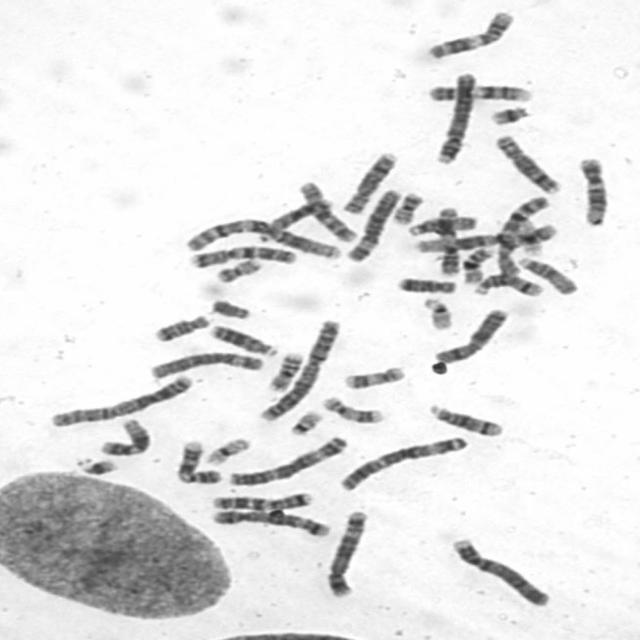A1: (179, 214, 345, 261), (407, 220, 560, 254)
A2: (254, 314, 343, 423), (43, 369, 196, 428)
A3: (333, 430, 472, 492), (223, 431, 352, 487)
B4: (446, 533, 554, 609), (428, 67, 479, 165)
B5: (320, 505, 370, 599), (206, 504, 334, 538)
C10: (293, 176, 361, 244), (489, 218, 558, 277)
C11: (421, 5, 517, 60), (433, 202, 462, 276)
C12: (573, 152, 613, 227), (94, 414, 154, 457)
C6: (341, 184, 404, 264), (144, 346, 268, 380)
C7: (184, 241, 301, 269), (204, 487, 314, 512)
C8: (489, 130, 564, 196), (335, 146, 400, 214)
C9: (422, 79, 535, 103), (170, 436, 224, 485)
D13: (250, 193, 336, 243), (205, 320, 280, 358)
D14: (424, 400, 506, 438), (469, 270, 547, 298)
D15: (512, 252, 581, 296), (402, 211, 480, 237)
E16: (263, 348, 306, 392), (456, 242, 496, 286)
E17: (316, 391, 388, 425), (337, 362, 408, 391)
E18: (148, 309, 214, 343), (392, 273, 459, 295)
F19: (200, 433, 253, 466), (511, 216, 547, 257)
F20: (210, 254, 264, 284), (386, 188, 426, 225)
G21: (69, 452, 121, 477), (484, 101, 534, 126)
G22: (417, 292, 455, 330), (284, 406, 326, 436)
X: (429, 304, 511, 364)
Y: (205, 295, 252, 320)
